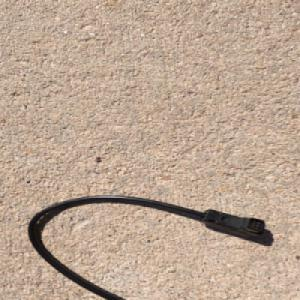Wire: (25, 192, 266, 300)
